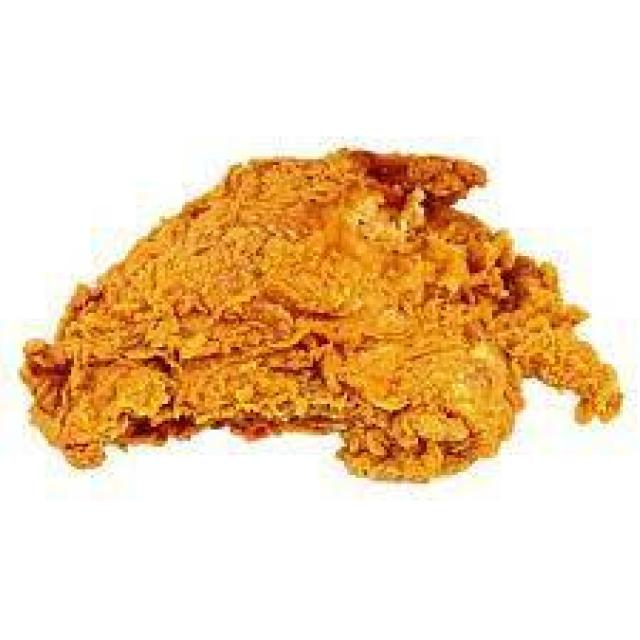Chicken -Fried Chicken-: (32, 125, 540, 472)
